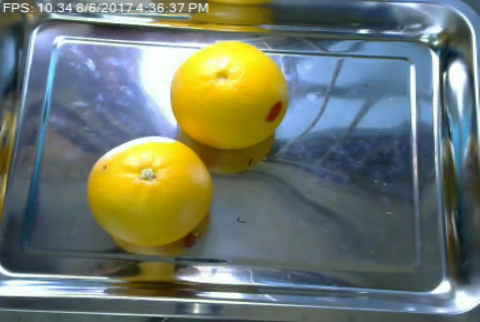Orange: (85, 136, 212, 246), (169, 42, 289, 150)
